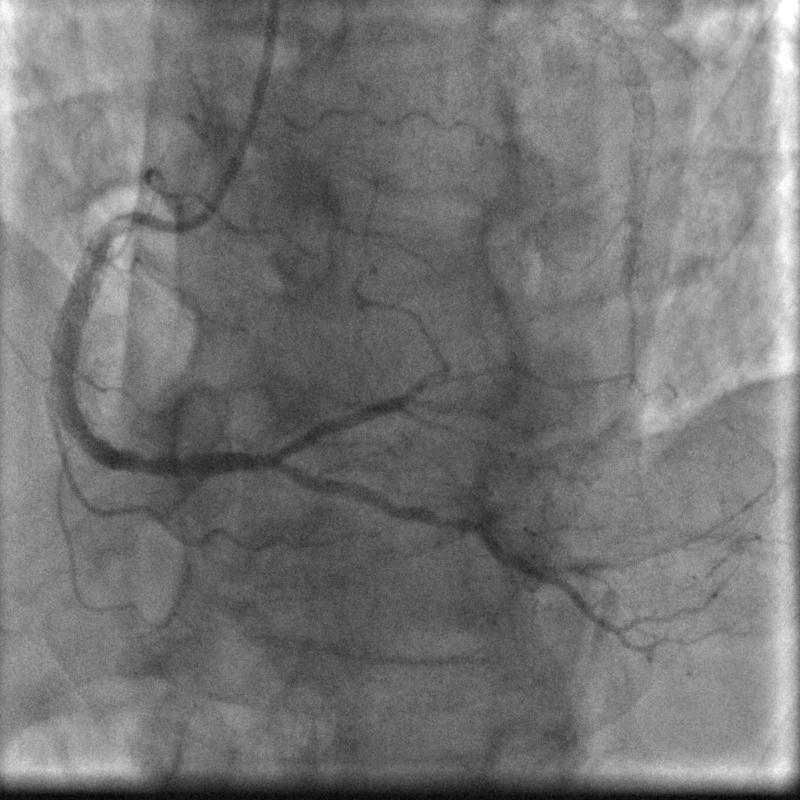Stenosis: (95, 202, 159, 240)
